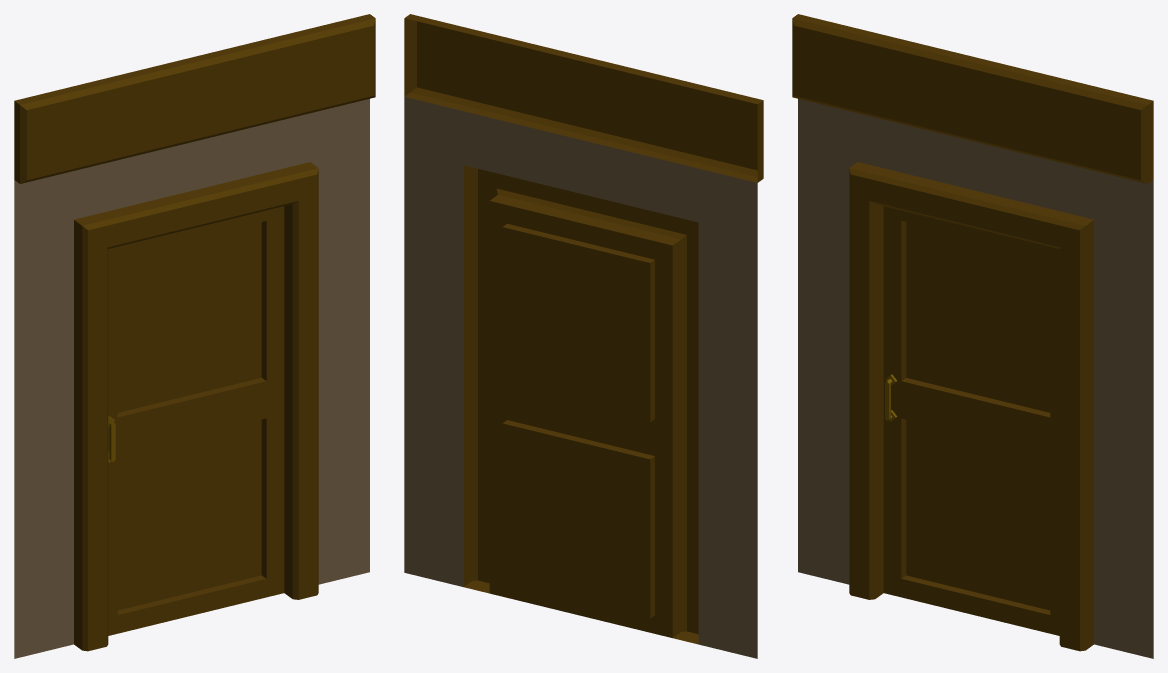
The model's file is ModuloPuerta.fbx.
3 views of the same model, side by side, from view 1: azimuth 30°, elevation 25°; view 2: azimuth 150°, elevation 25°; view 3: azimuth 330°, elevation 25° (orthographic).
Parts seen in each view (by area): view 1: ModuloArmario2; view 2: ModuloArmario2; view 3: ModuloArmario2.
Boxes of the visible parts, <box> form: ModuloArmario2: <box>14,14,375,658</box>; ModuloArmario2: <box>404,14,763,658</box>; ModuloArmario2: <box>792,14,1153,658</box>.
Size of the model in its own units: 2 by 3 by 0.149.
